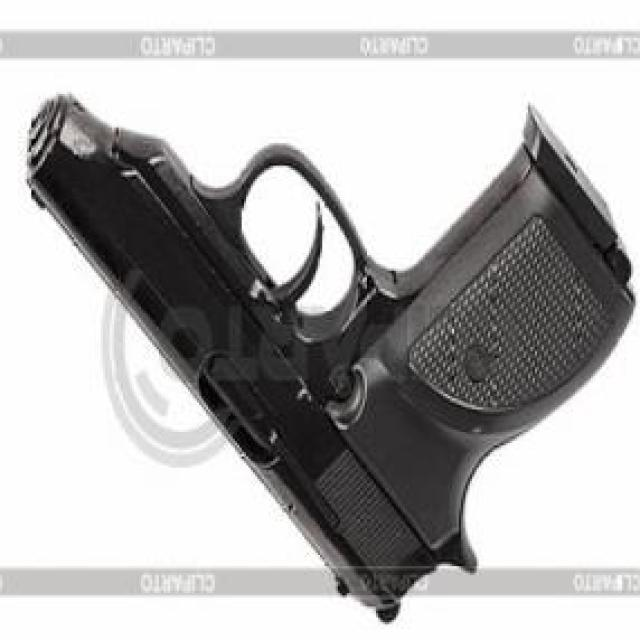pistol: (40, 72, 640, 624)
